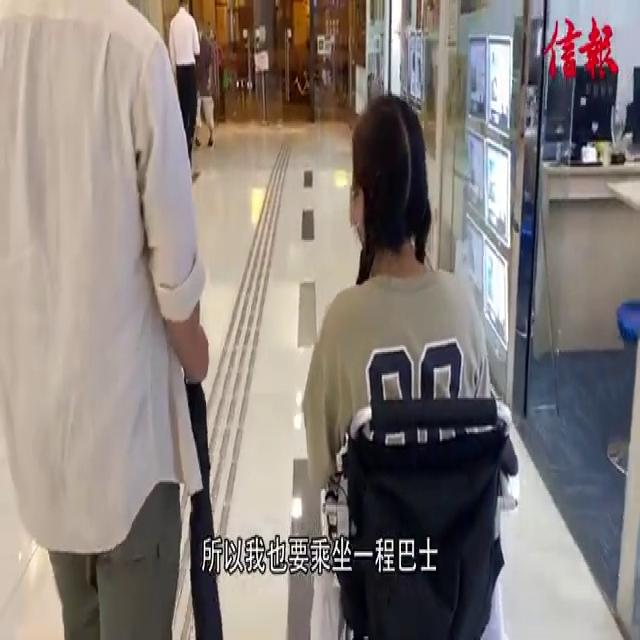wheelchairs: (306, 384, 534, 639)
